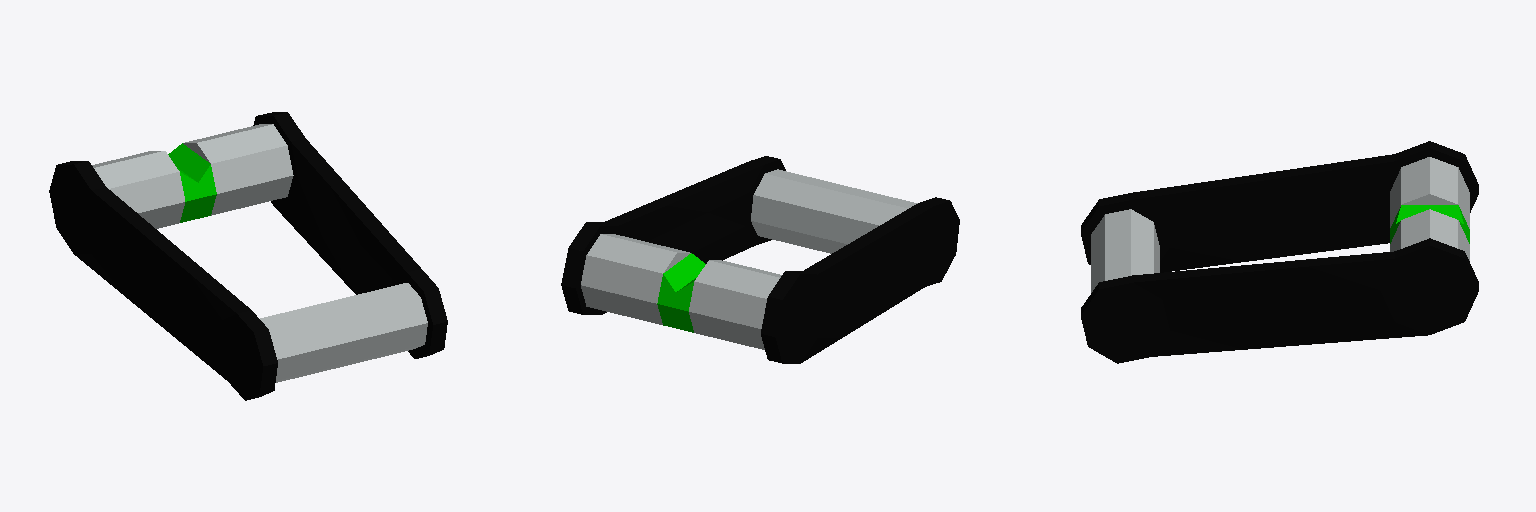
The model's file is gun2.obj.
3 views of the same model, side by side, from view 1: azimuth 30°, elevation 25°; view 2: azimuth 150°, elevation 25°; view 3: azimuth 270°, elevation 25° (orthographic).
Visible parts, largest first — view 1: Cube.002; view 2: Cube.002; view 3: Cube.002.
Part boxes in pixels (bbox=[...]): Cube.002: bbox=[49, 112, 447, 400]; Cube.002: bbox=[561, 156, 959, 363]; Cube.002: bbox=[1081, 141, 1478, 363].
Bounding box in the file's own units: 1.45 × 0.8108 × 2.33.